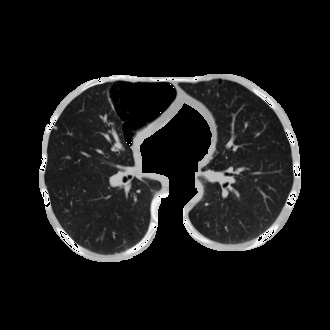PN: (53, 126, 57, 130)
